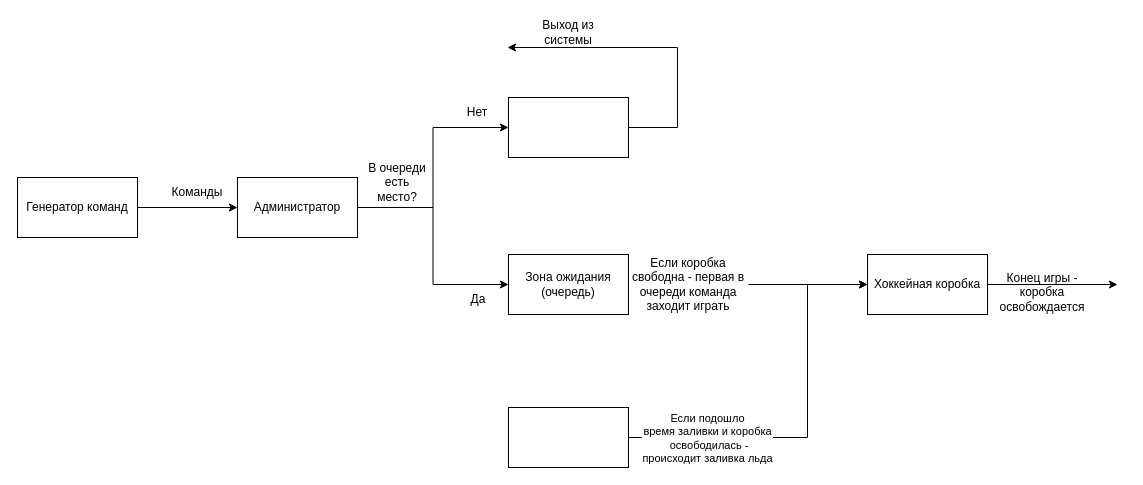
Some shapes in this 1143 by 485 pixel diagram are drawn without their labels. The centre of each missing label's shape, as x and y in pixels:
"Контроль заливки льда" goes at (x=568, y=437).
"Отказ" goes at (x=568, y=127).
